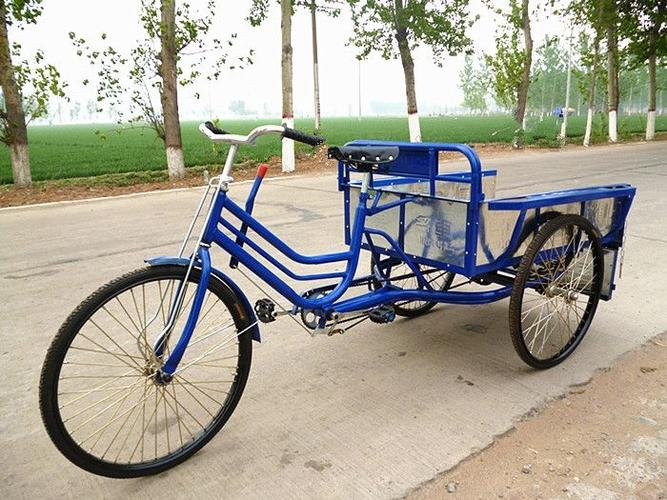empty: (38, 117, 634, 491)
